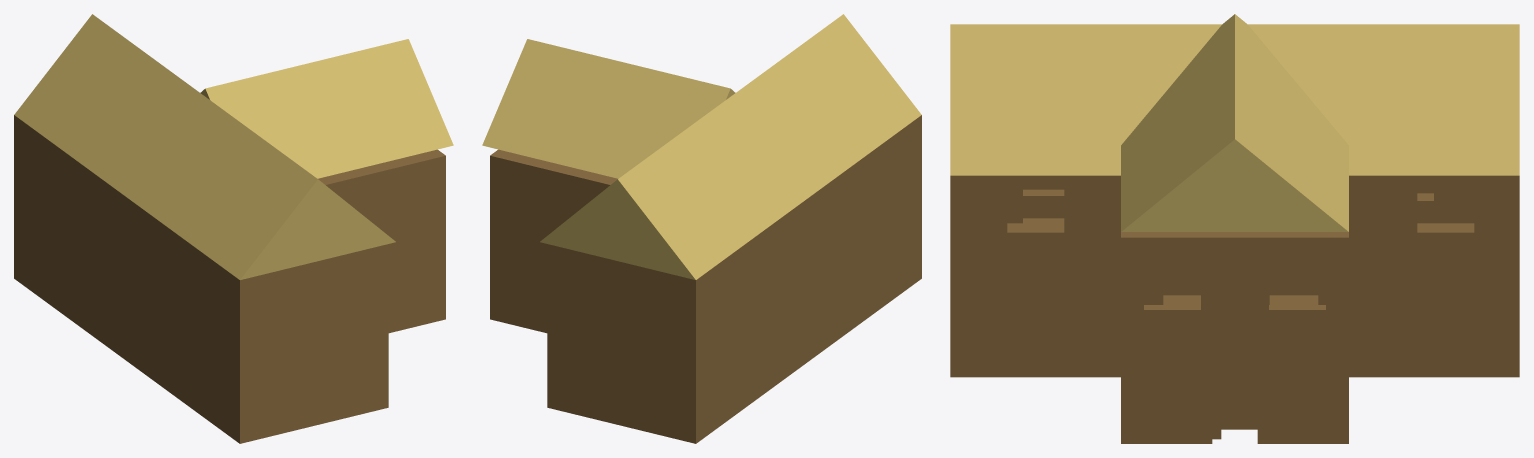
Rendered from erinhouse.glb.
3 renders of one model, left to right at view 1: azimuth 30°, elevation 25°; view 2: azimuth 150°, elevation 25°; view 3: azimuth 270°, elevation 25°, orthographic. The views are drawn at different scales.
Visible parts, largest first — view 1: Mesh_Mesh_head_geo.001_lambert2SG.001; view 2: Mesh_Mesh_head_geo.001_lambert2SG.001; view 3: Mesh_Mesh_head_geo.001_lambert2SG.001.
Boxes of the visible parts, left/top/right/bottom form: Mesh_Mesh_head_geo.001_lambert2SG.001: left=14, top=14, right=453, bottom=443; Mesh_Mesh_head_geo.001_lambert2SG.001: left=482, top=14, right=921, bottom=443; Mesh_Mesh_head_geo.001_lambert2SG.001: left=950, top=14, right=1519, bottom=443.
Bounding box in the file's own units: 36 × 31 × 50.
